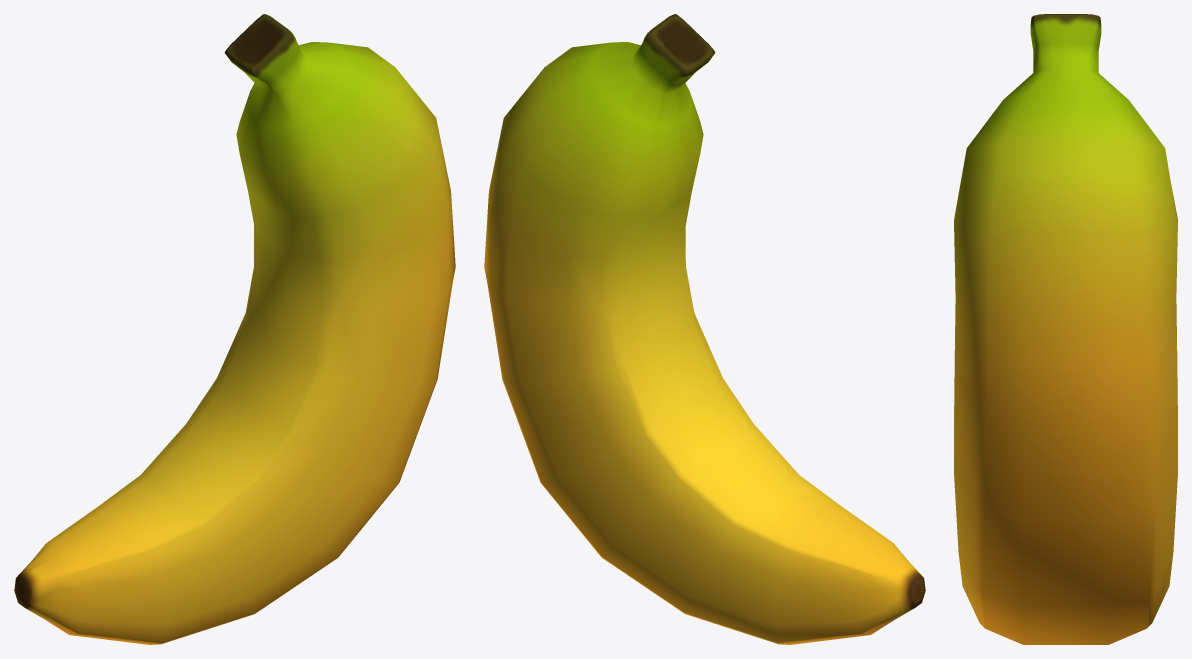
File: Banana2.fbx
3 renders of one model, left to right at view 1: azimuth 30°, elevation 25°; view 2: azimuth 150°, elevation 25°; view 3: azimuth 270°, elevation 25°, orthographic. The views are drawn at different scales.
Parts seen in each view (by area): view 1: Banana2; view 2: Banana2; view 3: Banana2.
Boxes of the visible parts, <box> form: Banana2: <box>14,14,455,644</box>; Banana2: <box>484,14,925,644</box>; Banana2: <box>954,14,1177,644</box>.
Bounding box in the file's own units: 22.64 × 29.97 × 9.06.
